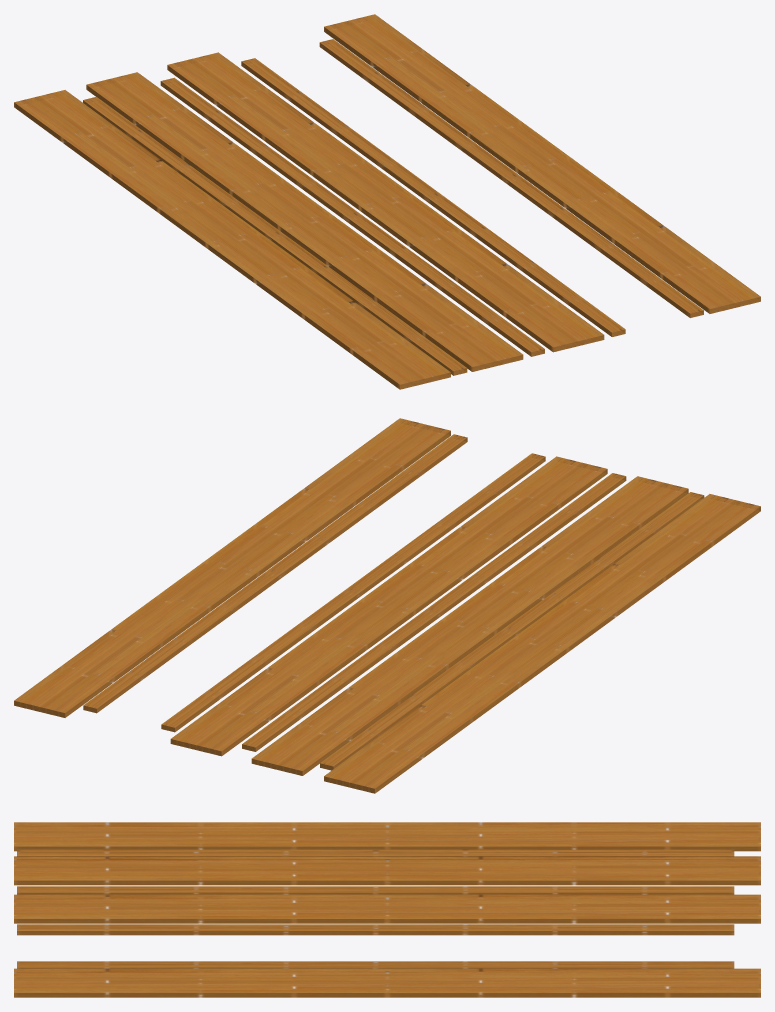
File: bowlfloor.glb
The picture shows the model from 3 angles, top to bottom: view 1: azimuth 30°, elevation 25°; view 2: azimuth 150°, elevation 25°; view 3: azimuth 270°, elevation 25°; orthographic projection. The views are drawn at different scales.
Visible parts, largest first — view 1: Cube, Cube__3_, Cube__4_, Cube__2_, Cube__6_, Cube__7_, Cube__8_, Cube__5_; view 2: Cube, Cube__3_, Cube__4_, Cube__2_, Cube__7_, Cube__8_, Cube__6_, Cube__5_; view 3: Cube, Cube__2_, Cube__4_, Cube__3_, Cube__7_, Cube__6_, Cube__5_, Cube__8_.
Boxes of the visible parts, x1,y1,x2,y2 form: Cube: (167, 52, 604, 352); Cube__3_: (14, 90, 450, 389); Cube__4_: (324, 14, 760, 313); Cube__2_: (86, 72, 523, 371); Cube__6_: (160, 77, 544, 356); Cube__7_: (241, 58, 625, 336); Cube__8_: (319, 39, 703, 317); Cube__5_: (83, 97, 467, 375); Cube: (170, 456, 607, 756); Cube__3_: (324, 494, 760, 793); Cube__4_: (14, 418, 450, 717); Cube__2_: (251, 476, 688, 775); Cube__7_: (161, 453, 545, 732); Cube__8_: (83, 434, 467, 713); Cube__6_: (242, 473, 626, 751); Cube__5_: (320, 492, 704, 770); Cube: (14, 894, 760, 923); Cube__2_: (14, 856, 760, 885); Cube__4_: (14, 968, 760, 997); Cube__3_: (14, 822, 760, 851); Cube__7_: (17, 924, 734, 935); Cube__6_: (17, 886, 734, 896); Cube__5_: (17, 849, 734, 860); Cube__8_: (17, 961, 734, 972).
Size of what is drawn, in the model's own units: 0.5238 by 0.00801 by 0.9699.
1 material, 1 textured.
